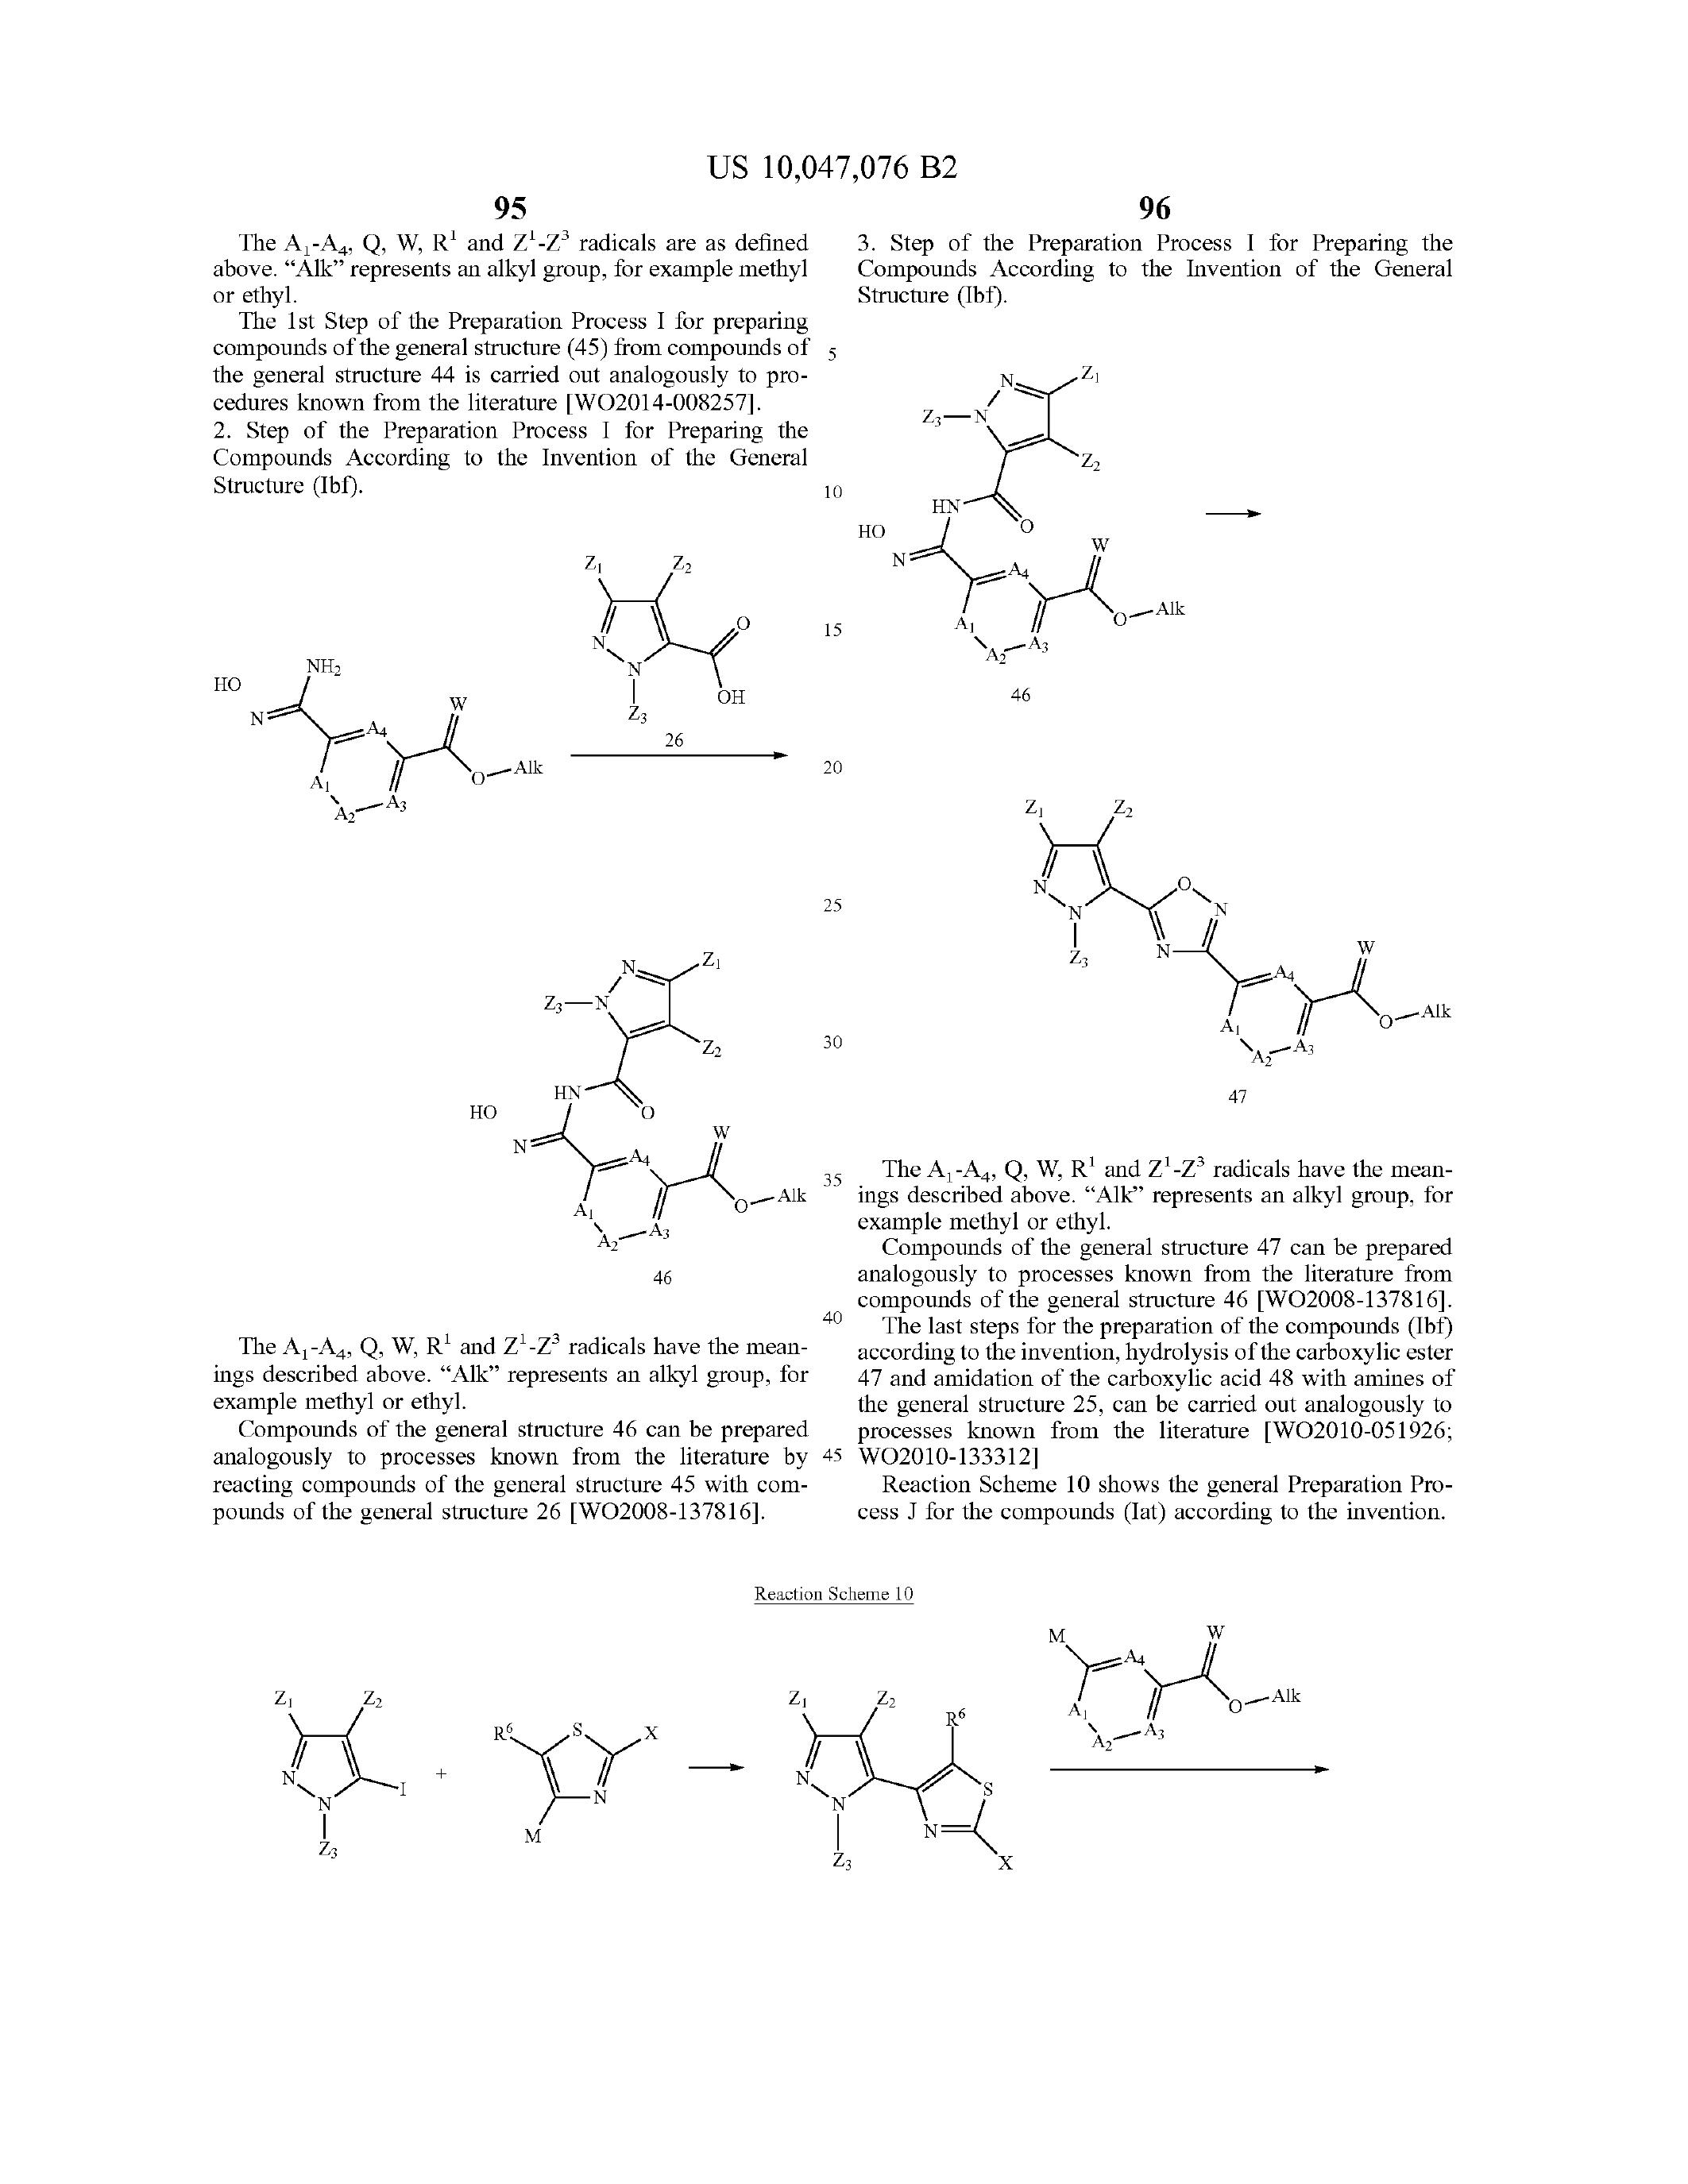reactions: (174, 550, 801, 1278)
